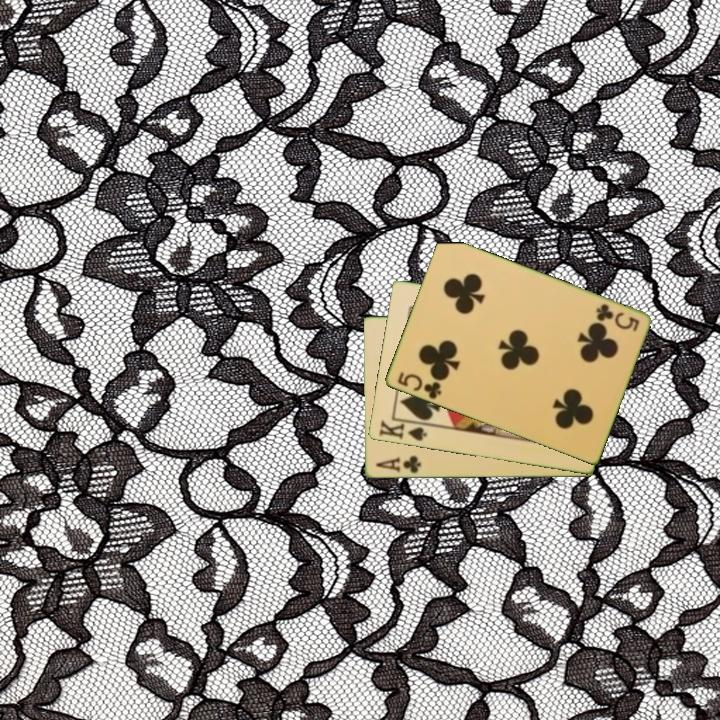5c: (393, 368, 444, 402), (592, 300, 642, 334)
Ac: (372, 453, 423, 476)
Ks: (375, 416, 432, 444)
